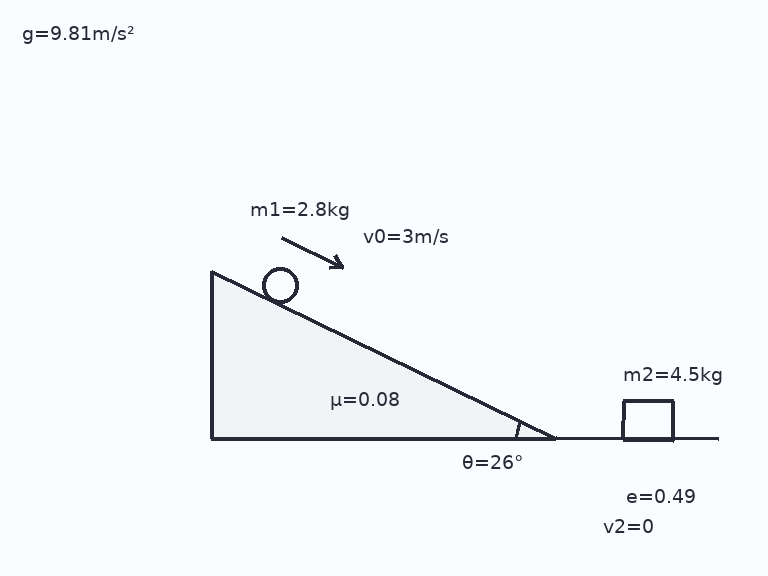ball: (260, 265, 300, 305)
block: (620, 400, 676, 441)
ramp: (209, 269, 558, 441)
